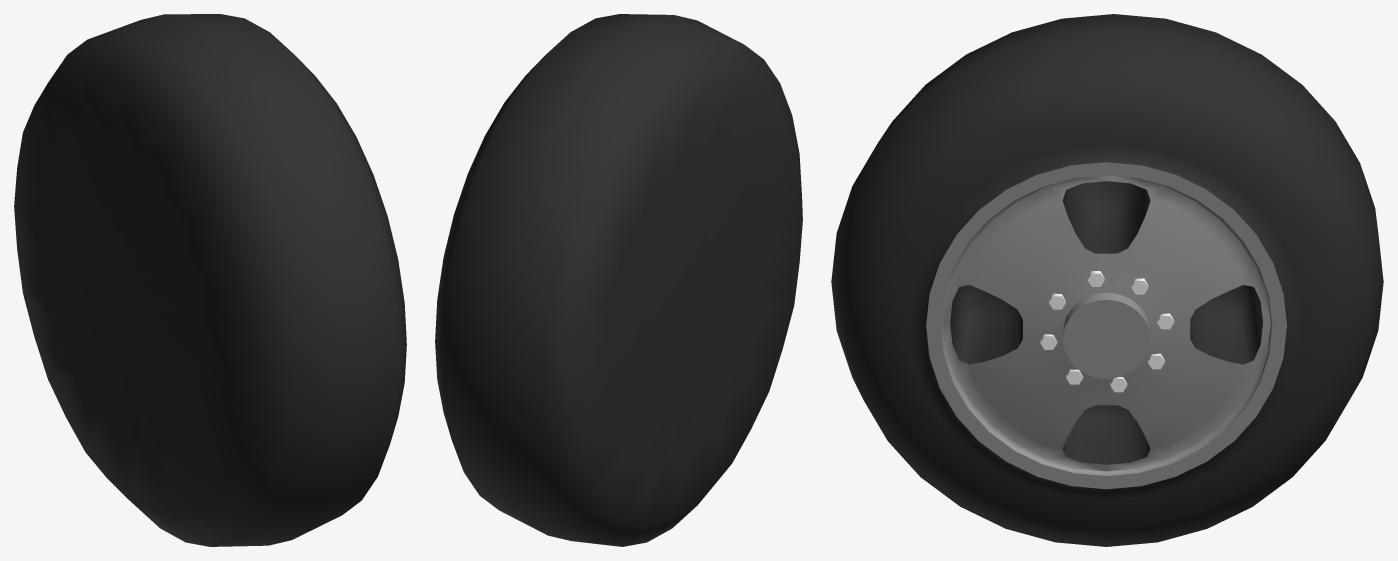
Rendered from modTruckFrontWheel.fbx.
3 views of the same model, side by side, from view 1: azimuth 30°, elevation 25°; view 2: azimuth 150°, elevation 25°; view 3: azimuth 270°, elevation 25° (orthographic). The views are drawn at different scales.
Visible parts, largest first — view 1: modTruckFrontWheel; view 2: modTruckFrontWheel; view 3: modTruckFrontWheel.
Part boxes in pixels (x1,y1,x2,y2): modTruckFrontWheel: (14, 14, 406, 546); modTruckFrontWheel: (435, 14, 802, 546); modTruckFrontWheel: (831, 14, 1383, 546).
Bounding box in the file's own units: 0.5672 × 1.37 × 1.37.
